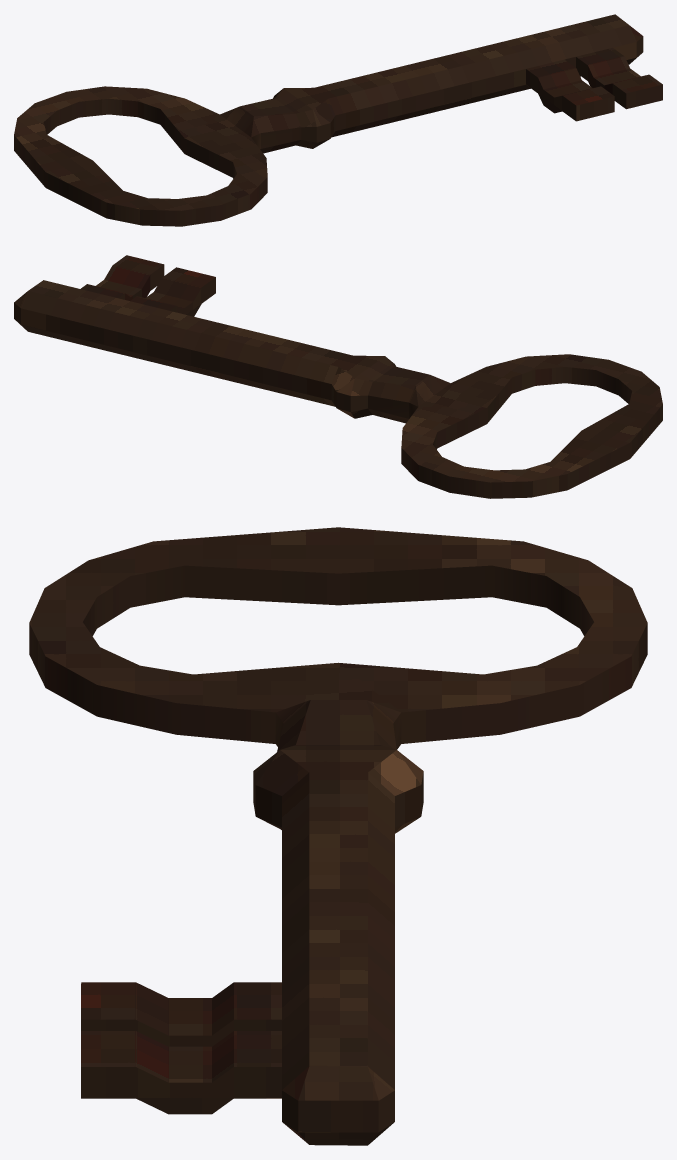
Rendered from key_mp_4_2.glb.
The picture shows the model from 3 angles, top to bottom: view 1: azimuth 30°, elevation 25°; view 2: azimuth 150°, elevation 25°; view 3: azimuth 270°, elevation 25°; orthographic projection. The views are drawn at different scales.
Parts seen in each view (by area): view 1: key_mp_4_2; view 2: key_mp_4_2; view 3: key_mp_4_2.
Boxes of the visible parts, box(x1,y1,x2,y2) form: key_mp_4_2: box(14, 14, 662, 226); key_mp_4_2: box(14, 255, 662, 498); key_mp_4_2: box(29, 527, 647, 1145).
Size of the model in its own units: 0.0903 by 0.00581 by 0.0411.
1 material, 1 textured.
